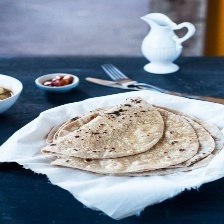roti: (41, 99, 223, 179)
